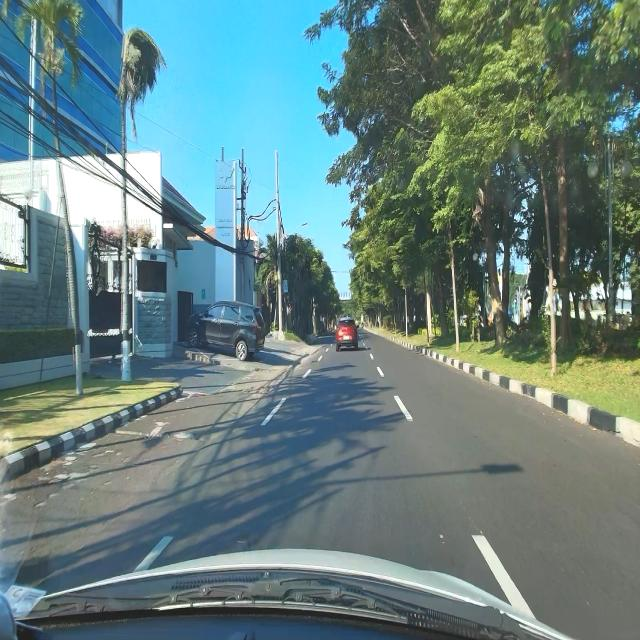car: (335, 318, 359, 352)
